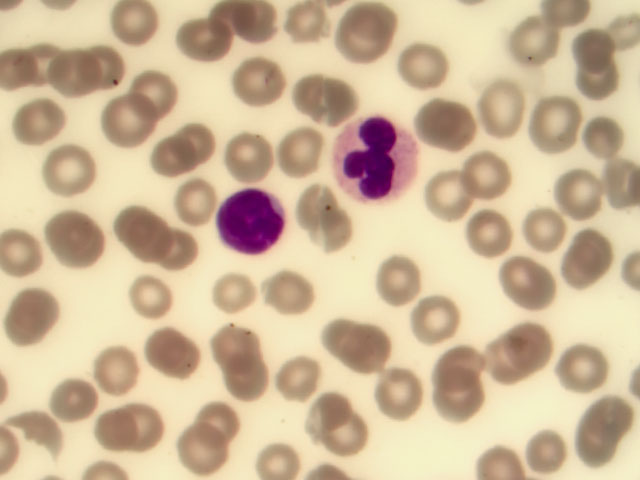RBC: (23, 41, 71, 88), (45, 46, 93, 93), (83, 41, 131, 88), (110, 95, 158, 142), (130, 67, 178, 114), (20, 97, 68, 144), (41, 142, 89, 189), (53, 209, 101, 256), (4, 230, 52, 277), (7, 290, 55, 337), (52, 378, 100, 425), (96, 345, 144, 392), (87, 404, 135, 451), (120, 402, 168, 449), (177, 424, 225, 471), (198, 401, 246, 448), (164, 336, 212, 383), (150, 321, 198, 368), (131, 269, 179, 316), (162, 232, 210, 279), (127, 221, 175, 268), (111, 206, 159, 253), (166, 179, 214, 226), (152, 143, 200, 190), (163, 124, 211, 171), (230, 130, 278, 177), (266, 125, 314, 172), (283, 73, 331, 120), (316, 72, 364, 119), (234, 57, 282, 104), (176, 16, 224, 63), (212, 4, 260, 51), (233, 1, 281, 48), (339, 14, 387, 61), (403, 41, 451, 88), (428, 102, 476, 149), (430, 174, 478, 221), (455, 154, 503, 201), (478, 91, 526, 138), (532, 98, 580, 145), (512, 20, 560, 67), (571, 22, 619, 69), (581, 56, 629, 103), (581, 117, 629, 164), (554, 166, 602, 213), (529, 201, 577, 248), (465, 210, 513, 257), (497, 248, 545, 295), (410, 296, 458, 343), (373, 263, 421, 310), (317, 209, 365, 256), (296, 186, 344, 233), (268, 270, 316, 317), (213, 270, 261, 317), (275, 345, 323, 392), (235, 353, 283, 400), (217, 316, 265, 363), (316, 310, 364, 357), (347, 324, 395, 371), (372, 362, 420, 409), (306, 379, 354, 426), (323, 406, 371, 453), (266, 433, 314, 480), (443, 378, 491, 425), (436, 333, 484, 380), (481, 339, 529, 386), (505, 319, 553, 366), (558, 342, 606, 389), (584, 391, 632, 438), (569, 421, 617, 468), (524, 430, 572, 477), (568, 238, 616, 285), (1, 46, 48, 93), (109, 1, 157, 47), (289, 1, 337, 47)
WBC: (332, 112, 419, 199), (214, 188, 288, 252)
